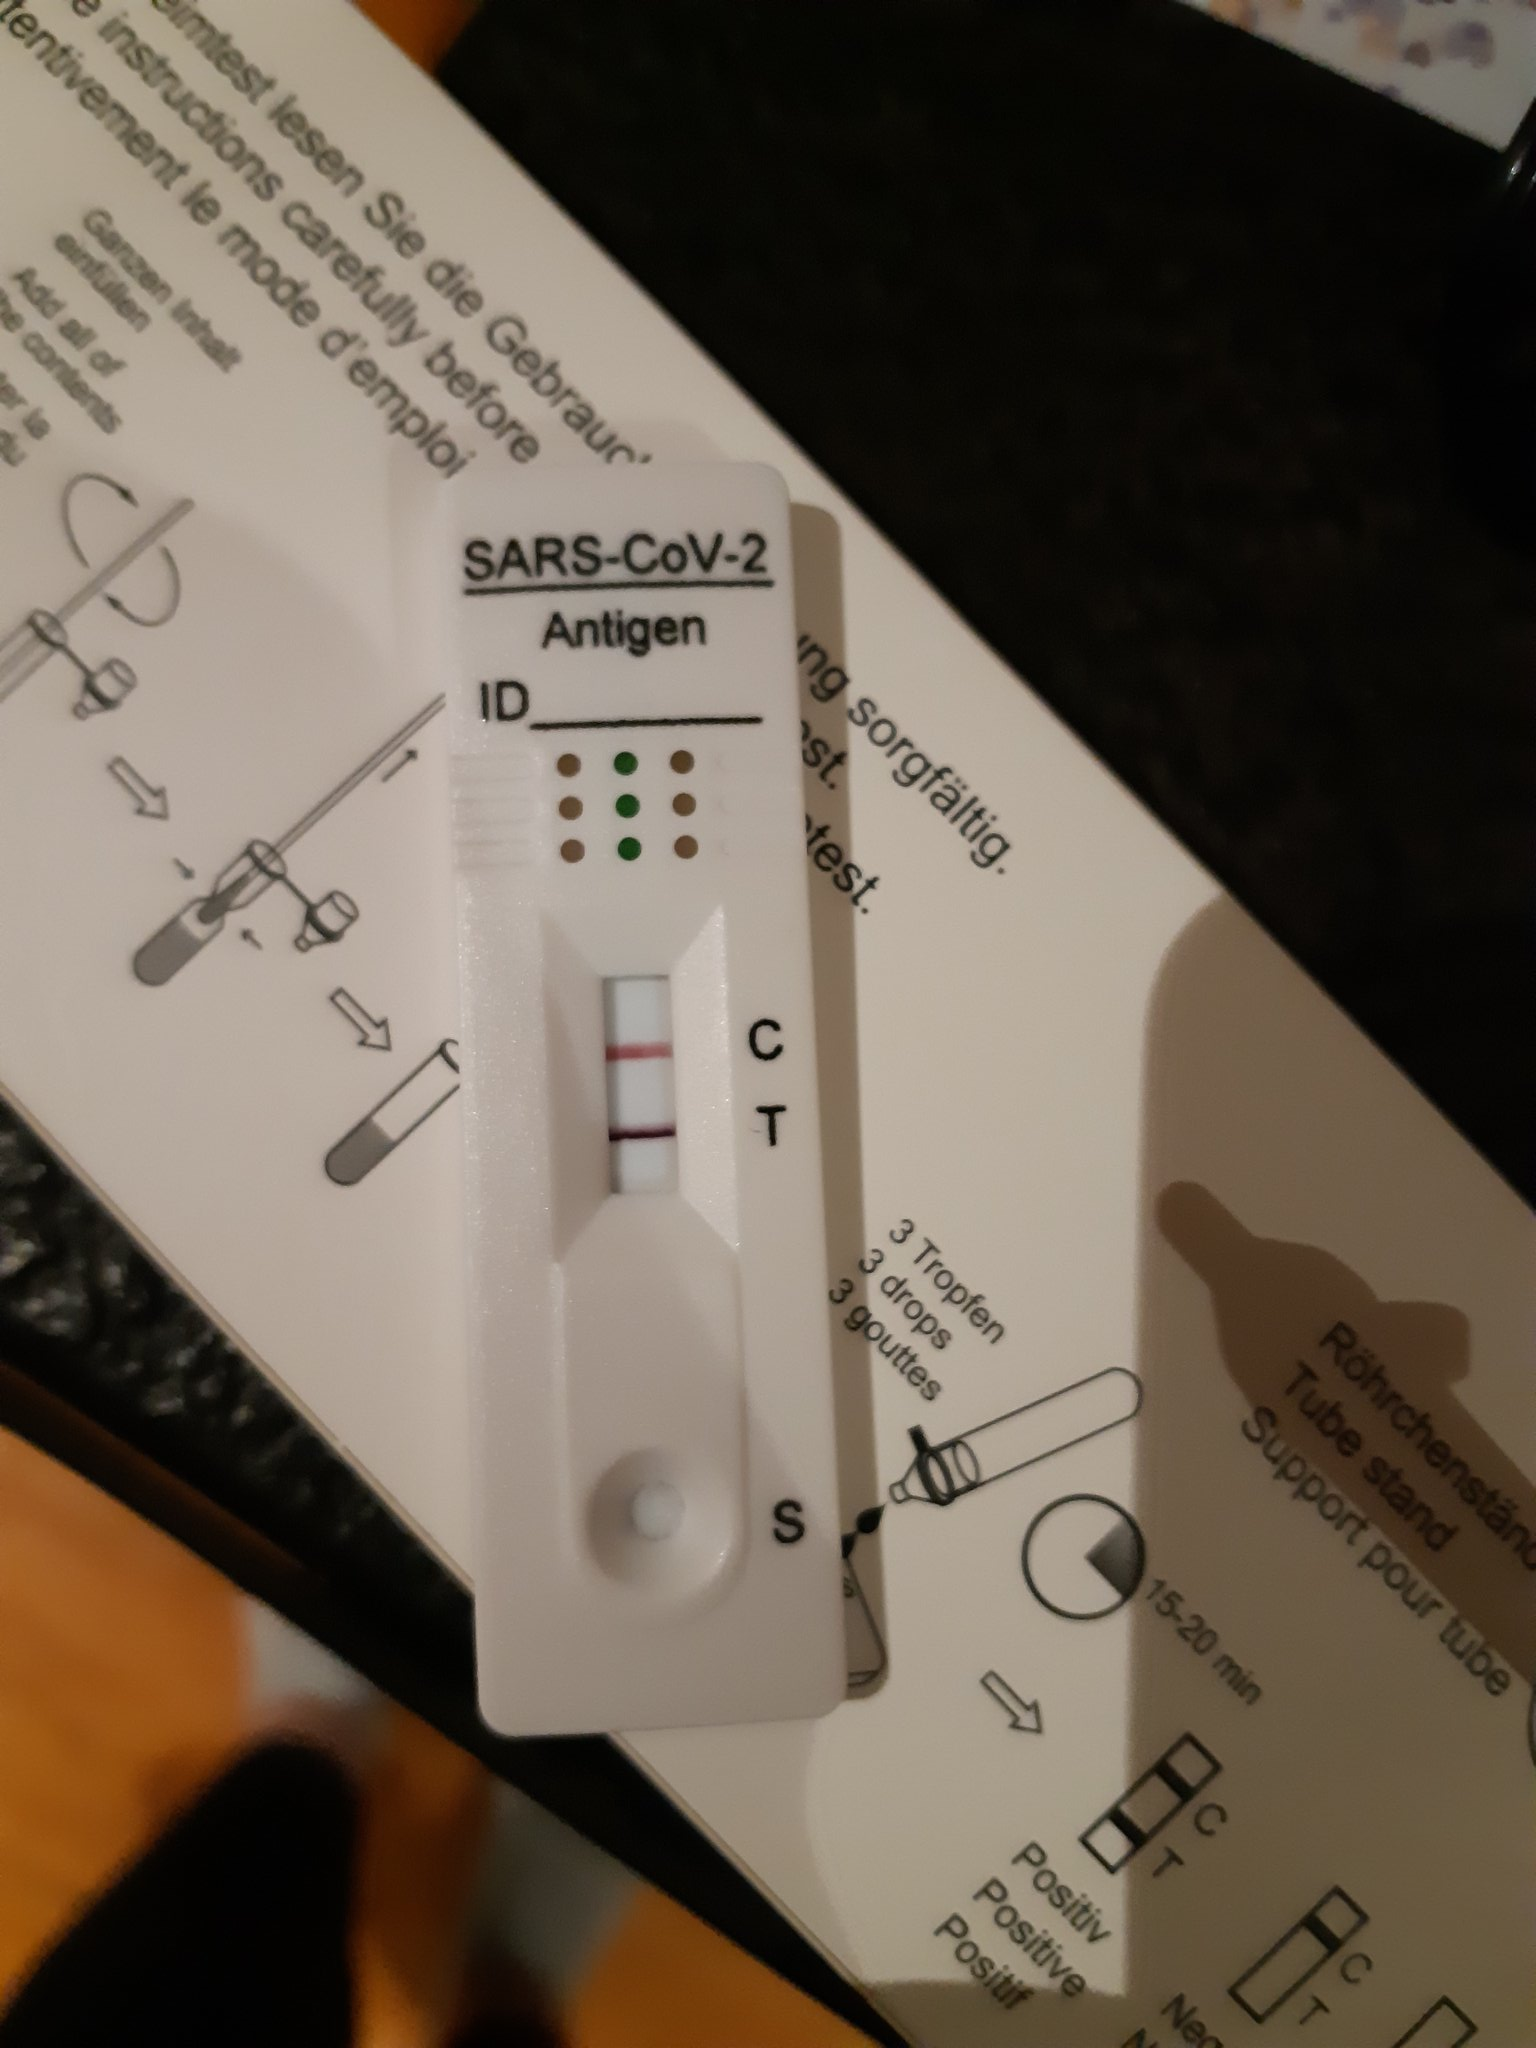positive: (549, 947, 708, 1250)
